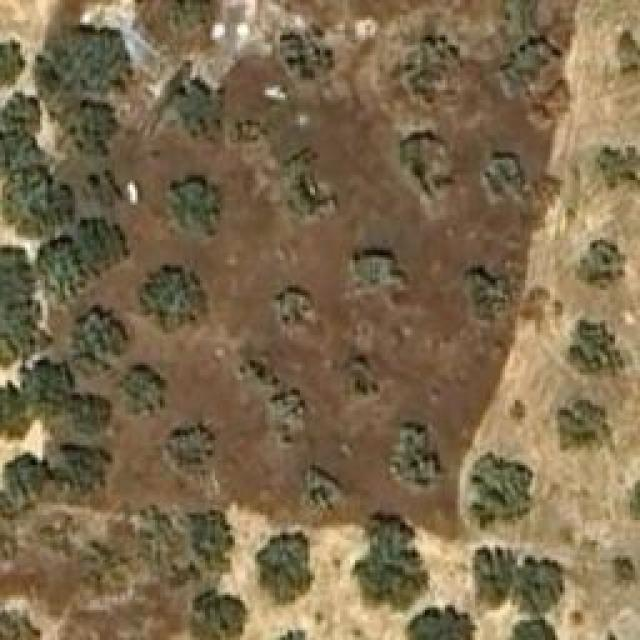Tree: (33, 25, 128, 118), (353, 512, 428, 610), (468, 453, 533, 528), (255, 532, 315, 610), (140, 263, 208, 326), (135, 0, 220, 45), (5, 168, 63, 233), (510, 555, 568, 618), (567, 320, 625, 380), (558, 385, 611, 450), (45, 395, 108, 448), (173, 80, 226, 143), (403, 135, 453, 198), (72, 313, 120, 378), (170, 180, 220, 240), (388, 432, 438, 490), (70, 105, 120, 163), (0, 457, 52, 512), (473, 545, 518, 608), (188, 510, 233, 570), (280, 32, 335, 80), (193, 592, 246, 640), (575, 240, 625, 290), (75, 218, 125, 268), (120, 365, 163, 418), (468, 273, 511, 326), (23, 358, 68, 408), (595, 147, 640, 195), (168, 430, 211, 480), (485, 158, 533, 198), (233, 350, 276, 393), (415, 607, 470, 640), (340, 360, 385, 400), (0, 253, 35, 303), (345, 255, 395, 290), (268, 393, 298, 448), (275, 287, 318, 325), (302, 468, 340, 508), (0, 35, 25, 90), (617, 30, 640, 75), (0, 390, 22, 437), (613, 558, 638, 588), (510, 400, 525, 423)
